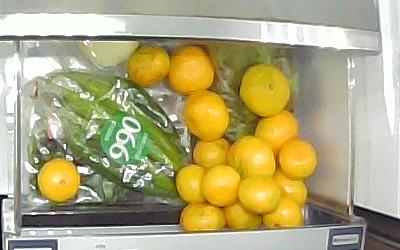tangerine: (240, 64, 293, 118), (182, 91, 229, 141), (170, 44, 214, 95), (228, 137, 276, 179), (37, 158, 81, 202), (256, 110, 298, 155), (129, 44, 170, 88), (202, 165, 242, 206), (278, 138, 317, 177), (240, 176, 280, 214), (176, 162, 210, 206), (178, 204, 225, 232), (261, 199, 303, 229), (222, 202, 263, 231), (277, 172, 310, 206), (191, 137, 228, 165)
